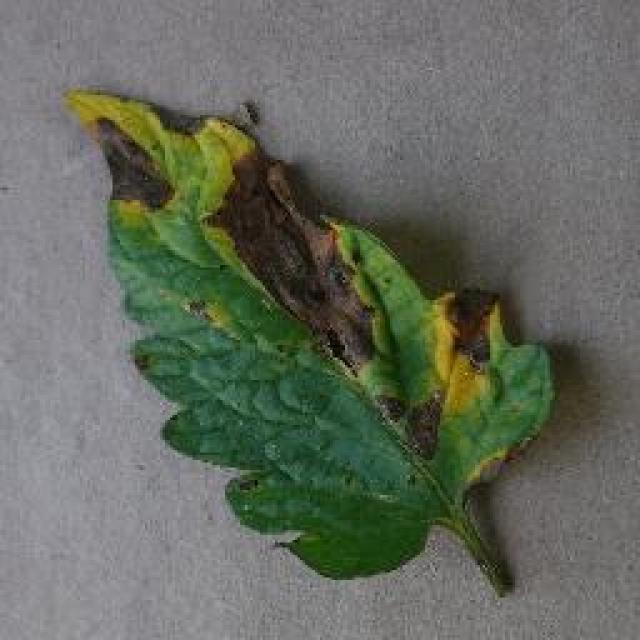Tomato Early blight leaf: (69, 88, 564, 580)
